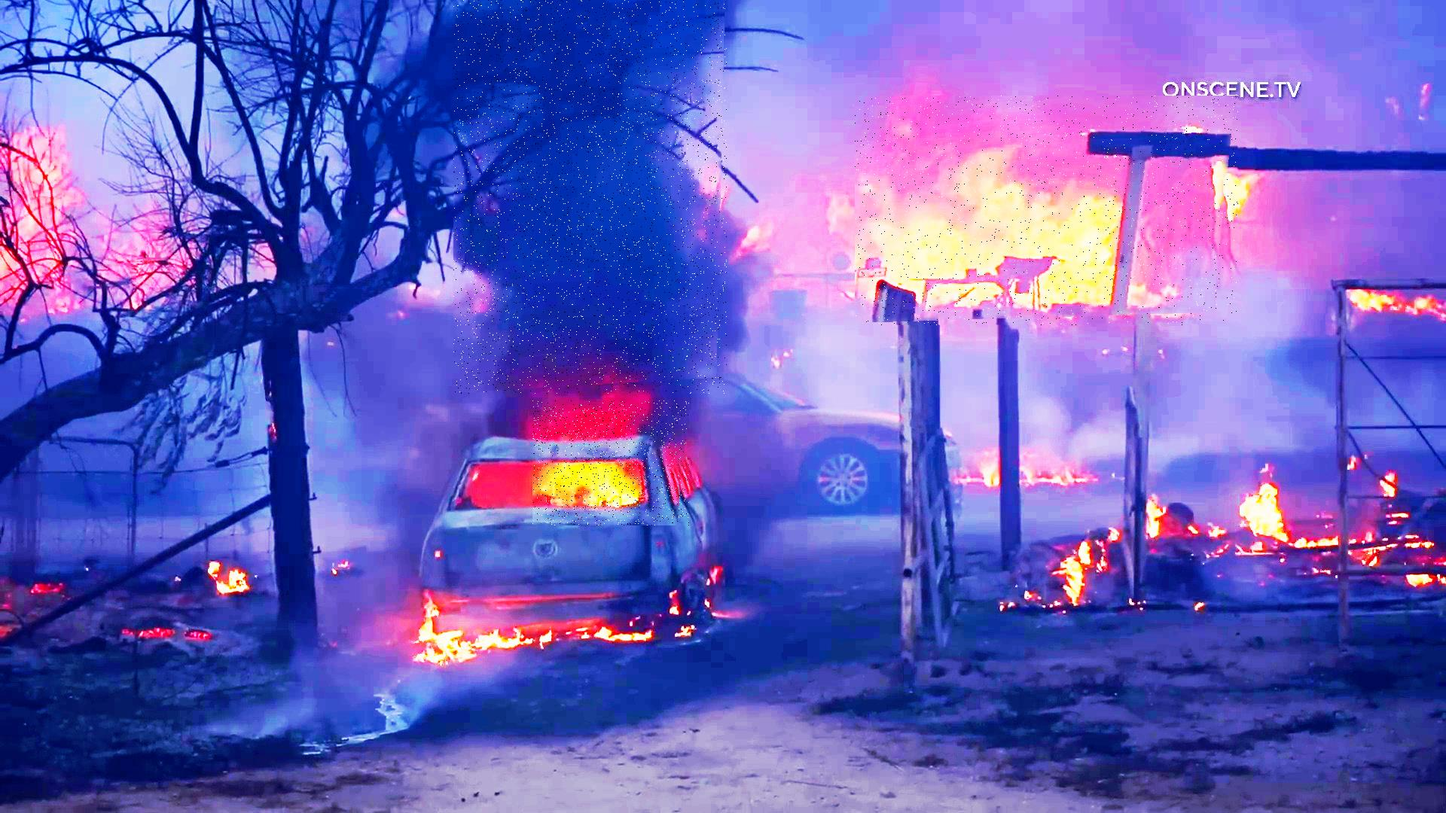fire: (855, 96, 1239, 326), (533, 401, 689, 526)
smoke: (454, 0, 727, 394)
